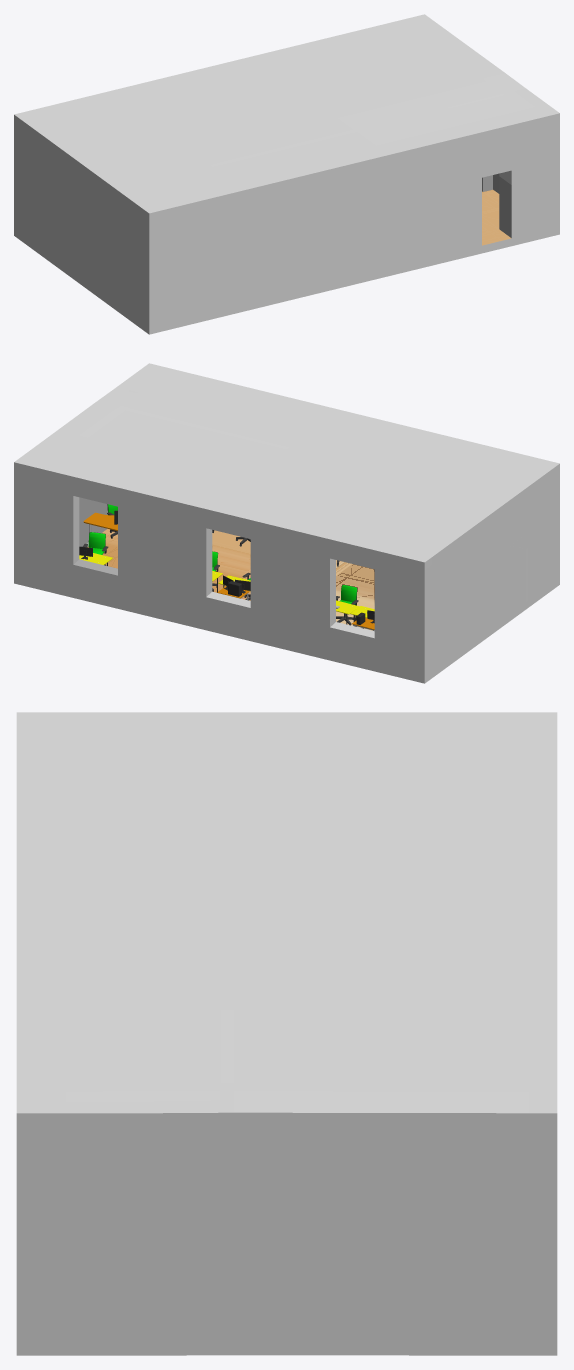
The model's file is 302_finished.fbx.
3 views of the same model, one above another, from view 1: azimuth 30°, elevation 25°; view 2: azimuth 150°, elevation 25°; view 3: azimuth 270°, elevation 25° (orthographic). The views are drawn at different scales.
Visible parts, largest first — view 1: 302; view 2: 302, green_chair, yellow_table, desk; view 3: 302.
Boxes of the visible parts, x1,y1,x2,y2 form: 302: [14, 14, 559, 334]; 302: [14, 363, 559, 683]; green_chair: [82, 504, 374, 625]; yellow_table: [79, 553, 374, 628]; desk: [83, 512, 117, 546]; 302: [16, 712, 557, 1355].
Bounding box in the file's own units: 1238 × 706 × 350.
